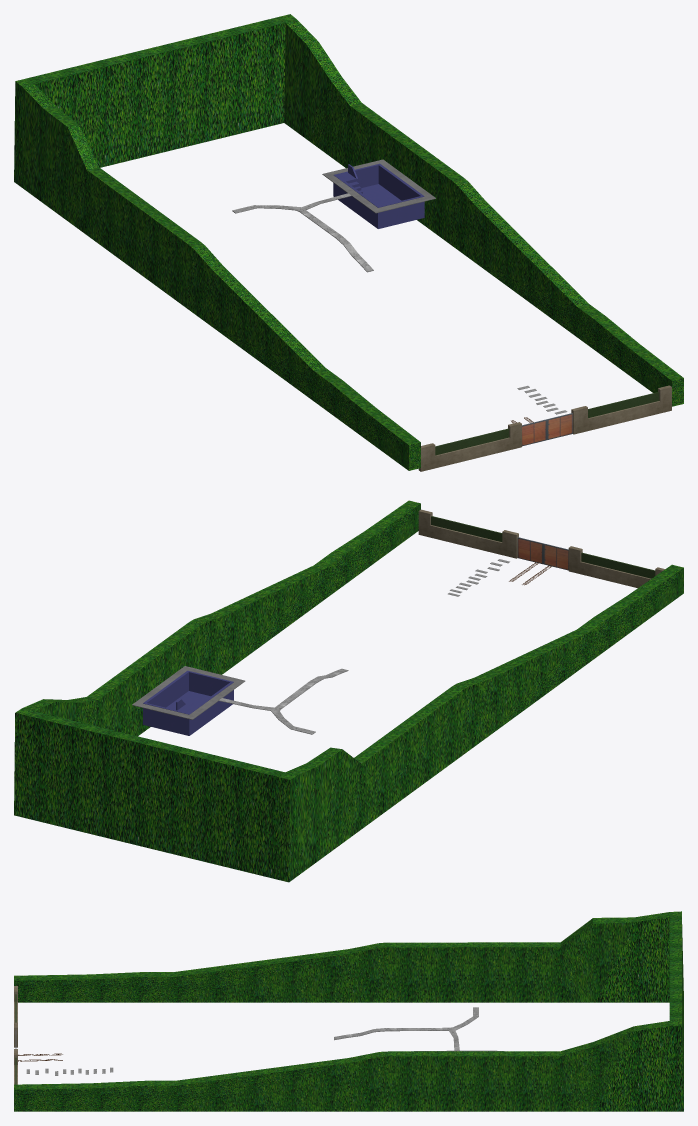
The model's file is Terreno.fbx.
3 renders of one model, top to bottom at view 1: azimuth 30°, elevation 25°; view 2: azimuth 150°, elevation 25°; view 3: azimuth 270°, elevation 25°, orthographic. The views are drawn at different scales.
Parts seen in each view (by area): view 1: Paredes Terreno, Pileta, Pared porton 1, Sendero patio, Pared porton 2, Porton; view 2: Paredes Terreno, Pileta, Pared porton 2, Sendero patio, Pared porton 1, Porton; view 3: Paredes Terreno, Sendero patio.
Boxes of the visible parts, <box> form: Paredes Terreno: <box>14,14,683,470</box>; Pileta: <box>333,163,424,228</box>; Pared porton 1: <box>418,422,521,471</box>; Sendero patio: <box>232,159,435,272</box>; Pared porton 2: <box>571,385,671,434</box>; Porton: <box>522,413,572,446</box>; Paredes Terreno: <box>14,500,683,882</box>; Pileta: <box>143,670,233,735</box>; Pared porton 2: <box>418,509,518,558</box>; Sendero patio: <box>132,666,348,734</box>; Pared porton 1: <box>568,546,664,588</box>; Porton: <box>517,537,568,570</box>; Paredes Terreno: <box>14,911,683,1111</box>; Sendero patio: <box>334,1007,503,1051</box>.
Bounding box in the file's own units: 68.72 × 25.17 × 171.
